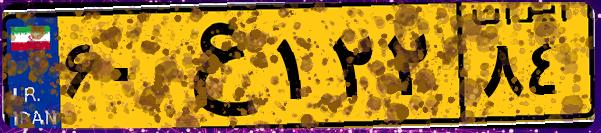0: (110, 28, 158, 98)
1: (270, 28, 330, 110)
2: (385, 28, 445, 110), (330, 28, 385, 110)
4: (525, 38, 570, 115)
6: (57, 26, 110, 100)
8: (475, 38, 525, 113)
ع: (158, 12, 270, 120)
